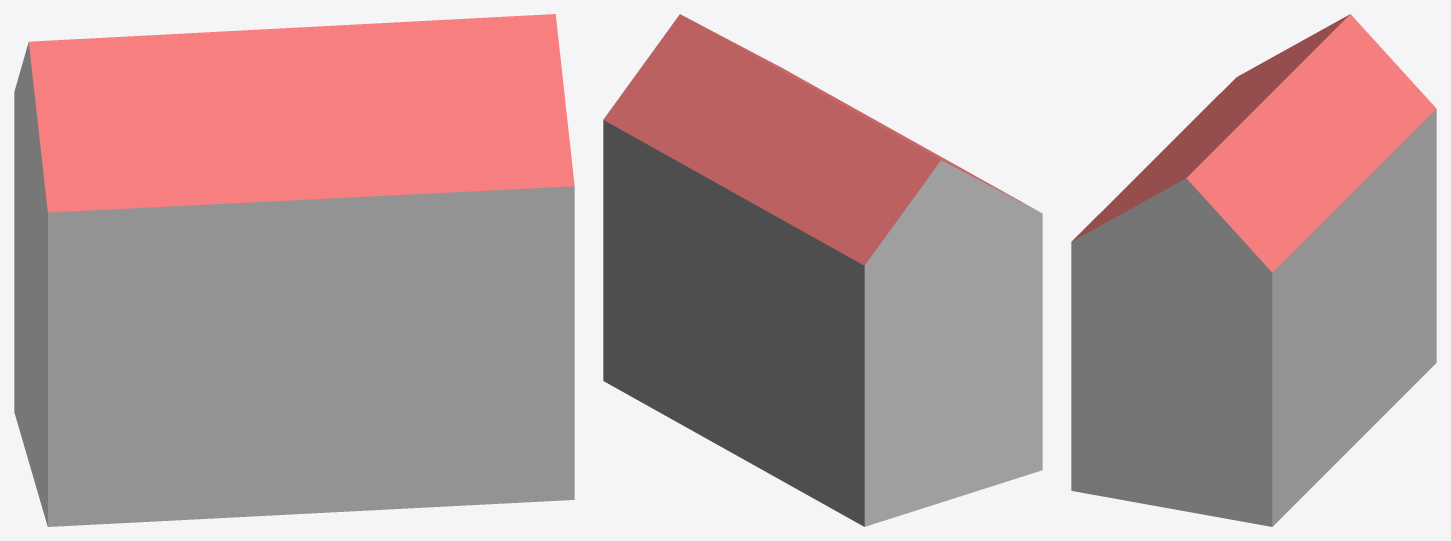
The model's file is DEBY_LOD2_4907016.gltf.
3 renders of one model, left to right at view 1: azimuth 30°, elevation 25°; view 2: azimuth 150°, elevation 25°; view 3: azimuth 270°, elevation 25°, orthographic. The views are drawn at different scales.
Visible parts, largest first — view 1: Z_UP; view 2: Z_UP; view 3: Z_UP.
Boxes of the visible parts, <box> form: Z_UP: <box>14,14,574,526</box>; Z_UP: <box>603,14,1042,526</box>; Z_UP: <box>1071,14,1436,526</box>.
Bounding box in the file's own units: 26.23 × 20.39 × 20.24.
